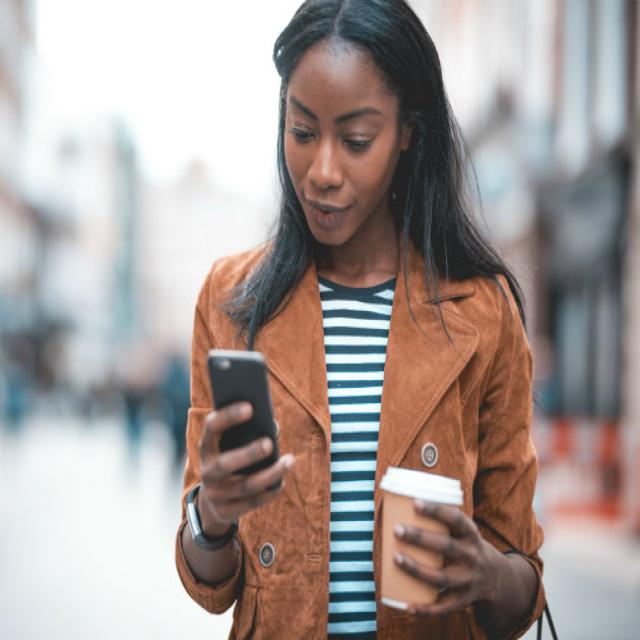mobile_phonerotation: (206, 347, 282, 491)
